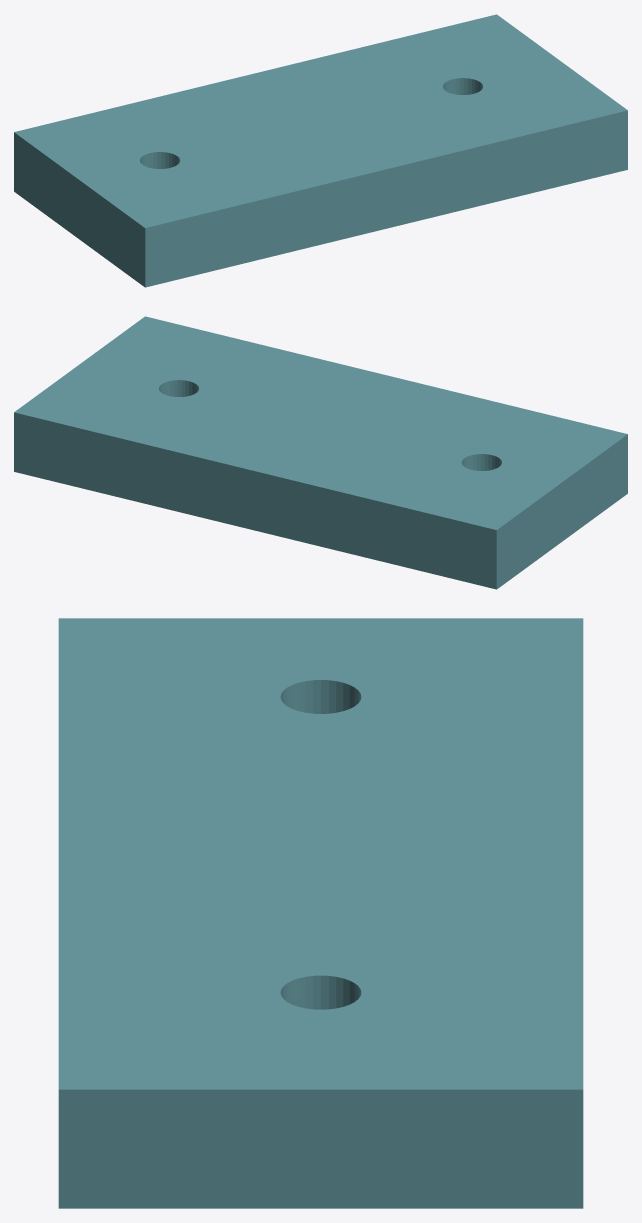
Rendered from Blum-3-spacer-6.glb.
3 renders of one model, top to bottom at view 1: azimuth 30°, elevation 25°; view 2: azimuth 150°, elevation 25°; view 3: azimuth 270°, elevation 25°, orthographic. The views are drawn at different scales.
Parts seen in each view (by area): view 1: Blum-3-spacer-6; view 2: Blum-3-spacer-6; view 3: Blum-3-spacer-6.
Part boxes in pixels (x1,y1,x2,y2): Blum-3-spacer-6: (14,14,627,287); Blum-3-spacer-6: (14,316,627,589); Blum-3-spacer-6: (58,618,583,1208).
Size of the model in its own units: 0.051 by 0.006 by 0.024.
